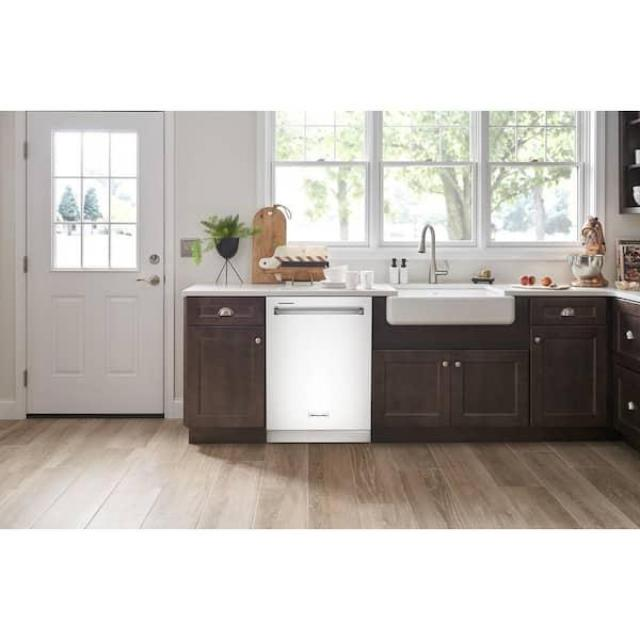dishwasher: (264, 291, 372, 453)
